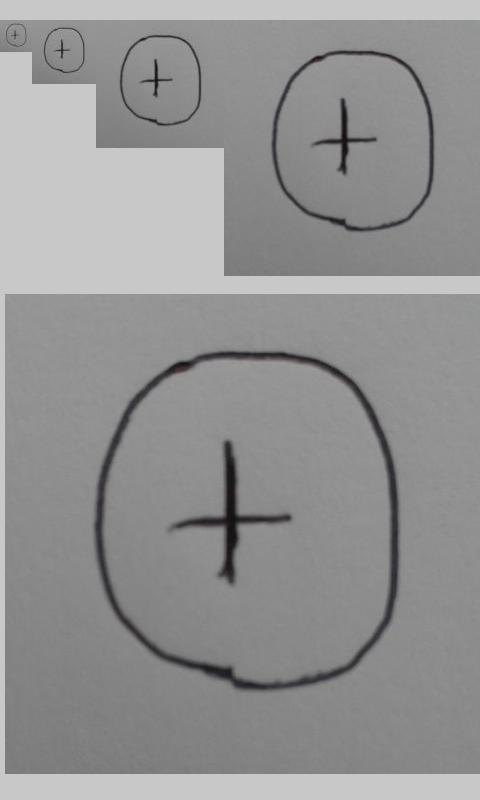button: (92, 346, 401, 696), (272, 49, 435, 232), (119, 34, 202, 127), (43, 27, 86, 74), (5, 23, 27, 47)
